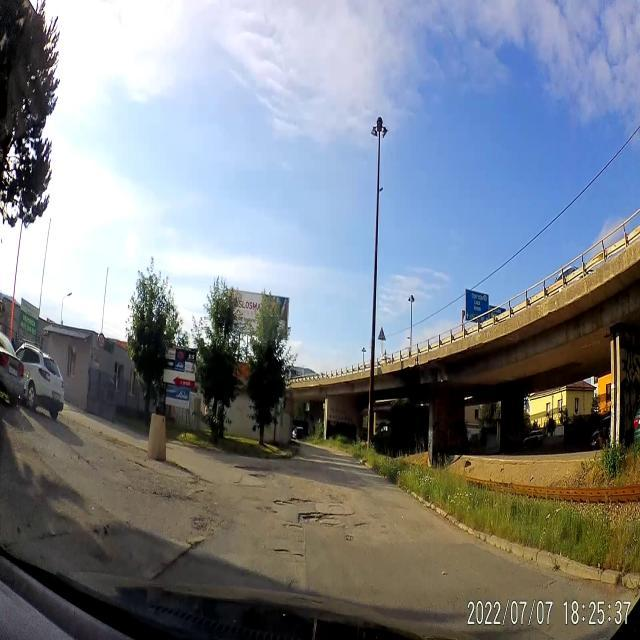Manhole: (322, 518, 344, 532), (326, 502, 348, 514)
Pothole: (297, 505, 325, 531), (270, 543, 302, 565), (250, 500, 282, 518), (284, 493, 315, 505)
